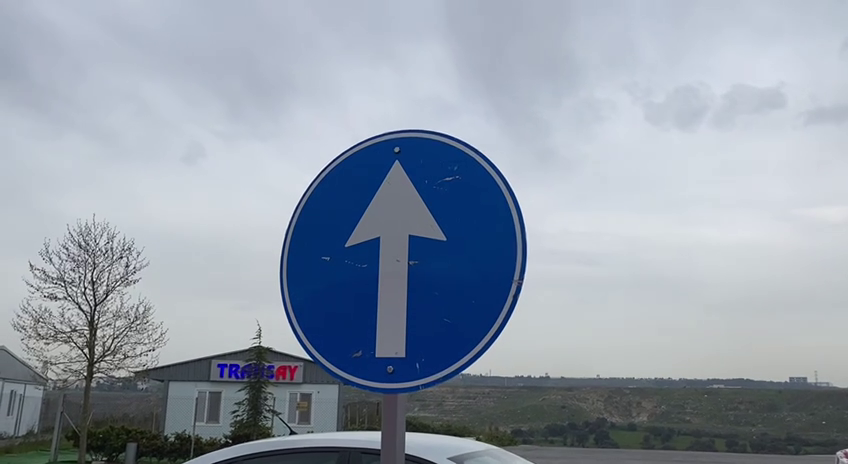forward: (272, 124, 537, 397)
